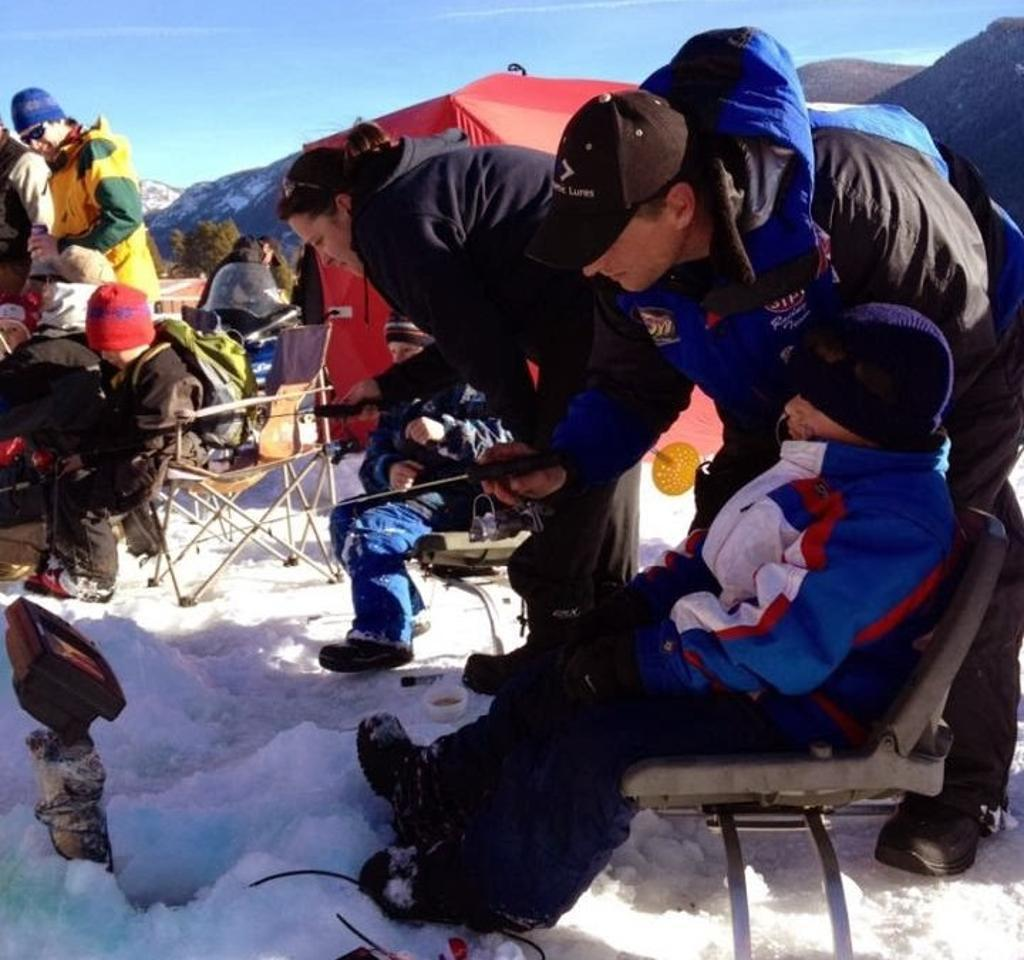face: (554, 215, 649, 292), (284, 212, 362, 283), (788, 373, 843, 450), (21, 111, 60, 157), (91, 331, 136, 368), (389, 337, 424, 377), (50, 273, 78, 321), (3, 317, 29, 355), (30, 272, 47, 292), (258, 245, 272, 264)
